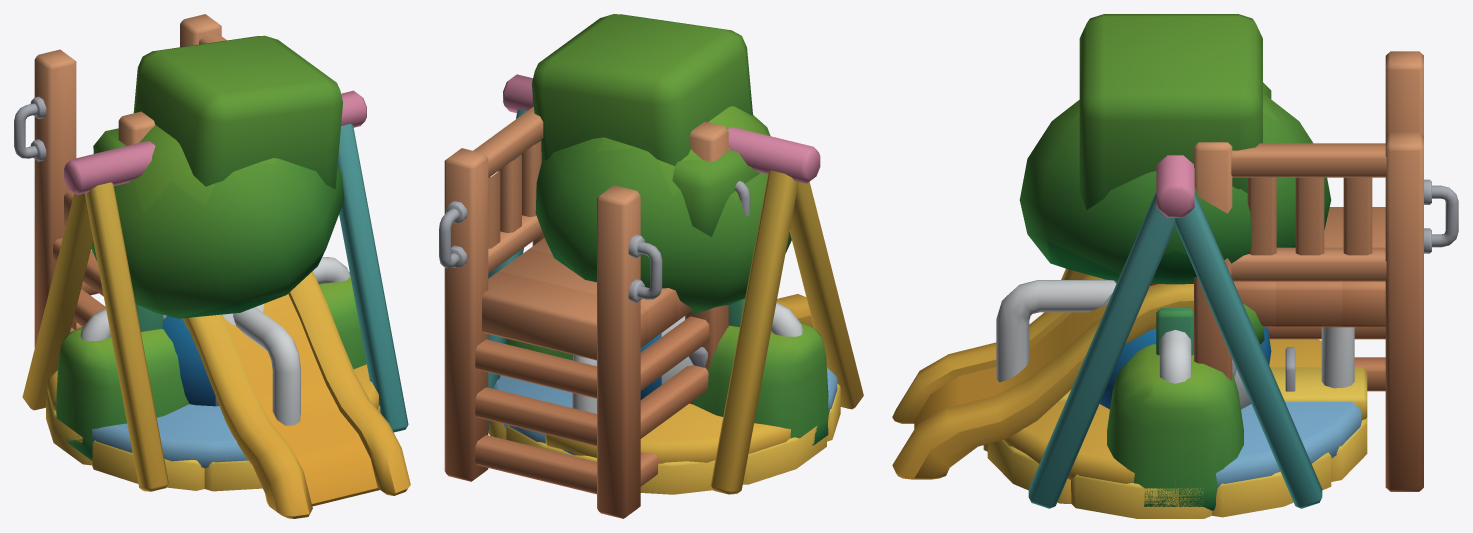
The model's file is schoolyard_dressing.glb.
3 views of the same model, side by side, from view 1: azimuth 30°, elevation 25°; view 2: azimuth 150°, elevation 25°; view 3: azimuth 270°, elevation 25° (orthographic). The views are drawn at different scales.
Visible parts, largest first — view 1: slide, tree_round, swing, tree_tall, hedge_long, merry_go_round, sandbox, big_ball_blue, fence_long; view 2: slide, tree_tall, tree_round, swing, hedge_long, merry_go_round, sandbox, big_ball_blue, seesaw; view 3: slide, tree_tall, swing, tree_round, merry_go_round, hedge_long, sandbox, seesaw, big_ball_blue, fence_long.
Boxes of the visible parts, x1,y1,x2,y2 form: slide: (14,14,410,518); tree_round: (91,125,344,318); swing: (22,90,408,491); tree_tall: (93,35,342,188); hedge_long: (56,272,366,460); merry_go_round: (47,257,378,468); sandbox: (46,390,380,491); big_ball_blue: (162,304,264,406); fence_long: (136,304,163,331); slide: (439,96,813,518); tree_tall: (531,14,759,236); tree_round: (535,106,791,312); swing: (488,74,863,494); hedge_long: (506,321,828,445); merry_go_round: (493,302,837,463); sandbox: (488,383,840,494); big_ball_blue: (640,316,693,399); seesaw: (545,407,596,457); slide: (892,51,1458,491); tree_tall: (1079,14,1271,285); swing: (1028,155,1322,508); tree_round: (1019,93,1331,343); merry_go_round: (996,280,1362,492); hedge_long: (1107,344,1243,510); sandbox: (983,417,1367,518); seesaw: (1058,347,1367,419); big_ball_blue: (1099,293,1271,409); fence_long: (1156,308,1193,355).
Bounding box in the file's own units: 4 × 4.67 × 5.91.
